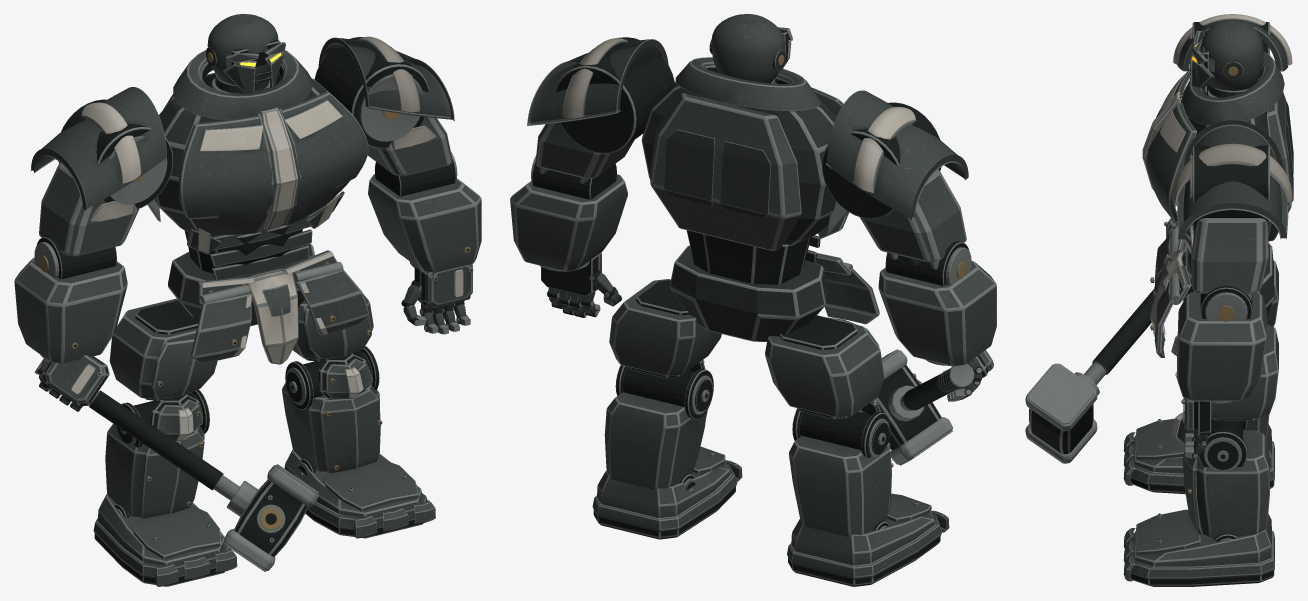
File: tank-t1-warden.glb
The picture shows the model from 3 angles, left to right: view 1: azimuth 30°, elevation 25°; view 2: azimuth 150°, elevation 25°; view 3: azimuth 270°, elevation 25°; orthographic projection. The views are drawn at different scales.
Visible parts, largest first — view 1: chest__clay, weaponR__metal, elbowR__clay, pauldronR__clay, ankleR__clay, kneeL__clay, elbowL__clay, pelvis__metal, ankleL__clay, kneeR__clay, hipR__clay, shoulderL__metal (+21 smaller); view 2: chest__clay, chest__metal, pelvis__metal, pauldronR__clay, elbowR__clay, kneeR__clay, elbowL__clay, kneeL__clay, hipR__clay, ankleR__clay, ankleL__clay, shoulderL__metal (+18 smaller); view 3: chest__clay, ankleL__clay, elbowL__clay, pauldronL__clay, weaponR__metal, kneeL__clay, shoulderL__clay, head__clay, ankleR__clay, shoulderL__metal, hipL__clay, kneeL__metal (+14 smaller).
Part boxes in pixels (bbox=[...]): chest__clay: bbox=[163, 50, 368, 254]; weaponR__metal: bbox=[34, 359, 318, 571]; elbowR__clay: bbox=[14, 257, 127, 363]; pauldronR__clay: bbox=[30, 87, 166, 210]; ankleR__clay: bbox=[93, 493, 237, 586]; kneeL__clay: bbox=[282, 358, 380, 473]; elbowL__clay: bbox=[368, 174, 481, 272]; pelvis__metal: bbox=[168, 213, 343, 326]; ankleL__clay: bbox=[284, 449, 435, 538]; kneeR__clay: bbox=[105, 399, 204, 518]; hipR__clay: bbox=[109, 298, 217, 399]; shoulderL__metal: bbox=[314, 37, 429, 174]; chest__clay: bbox=[649, 57, 848, 250]; chest__metal: bbox=[641, 64, 848, 246]; pelvis__metal: bbox=[670, 230, 852, 341]; pauldronR__clay: bbox=[826, 90, 968, 219]; elbowR__clay: bbox=[878, 261, 996, 366]; kneeR__clay: bbox=[789, 399, 891, 536]; elbowL__clay: bbox=[510, 174, 627, 271]; kneeL__clay: bbox=[604, 360, 707, 489]; hipR__clay: bbox=[765, 315, 884, 417]; ankleR__clay: bbox=[787, 493, 949, 579]; ankleL__clay: bbox=[592, 446, 742, 532]; shoulderL__metal: bbox=[539, 37, 674, 183]; chest__clay: bbox=[1142, 52, 1291, 254]; ankleL__clay: bbox=[1123, 509, 1274, 581]; elbowL__clay: bbox=[1177, 291, 1266, 400]; pauldronL__clay: bbox=[1173, 120, 1292, 239]; weaponR__metal: bbox=[1025, 254, 1184, 463]; kneeL__clay: bbox=[1171, 412, 1269, 539]; shoulderL__clay: bbox=[1190, 218, 1268, 293]; head__clay: bbox=[1191, 19, 1263, 90]; ankleR__clay: bbox=[1123, 418, 1274, 487]; shoulderL__metal: bbox=[1190, 145, 1269, 300]; hipL__clay: bbox=[1211, 324, 1278, 418]; kneeL__metal: bbox=[1187, 419, 1247, 493].
Size of the model in its own units: 3.6 by 3.95 by 1.94.
Materials: 11 (10 with a texture image).
